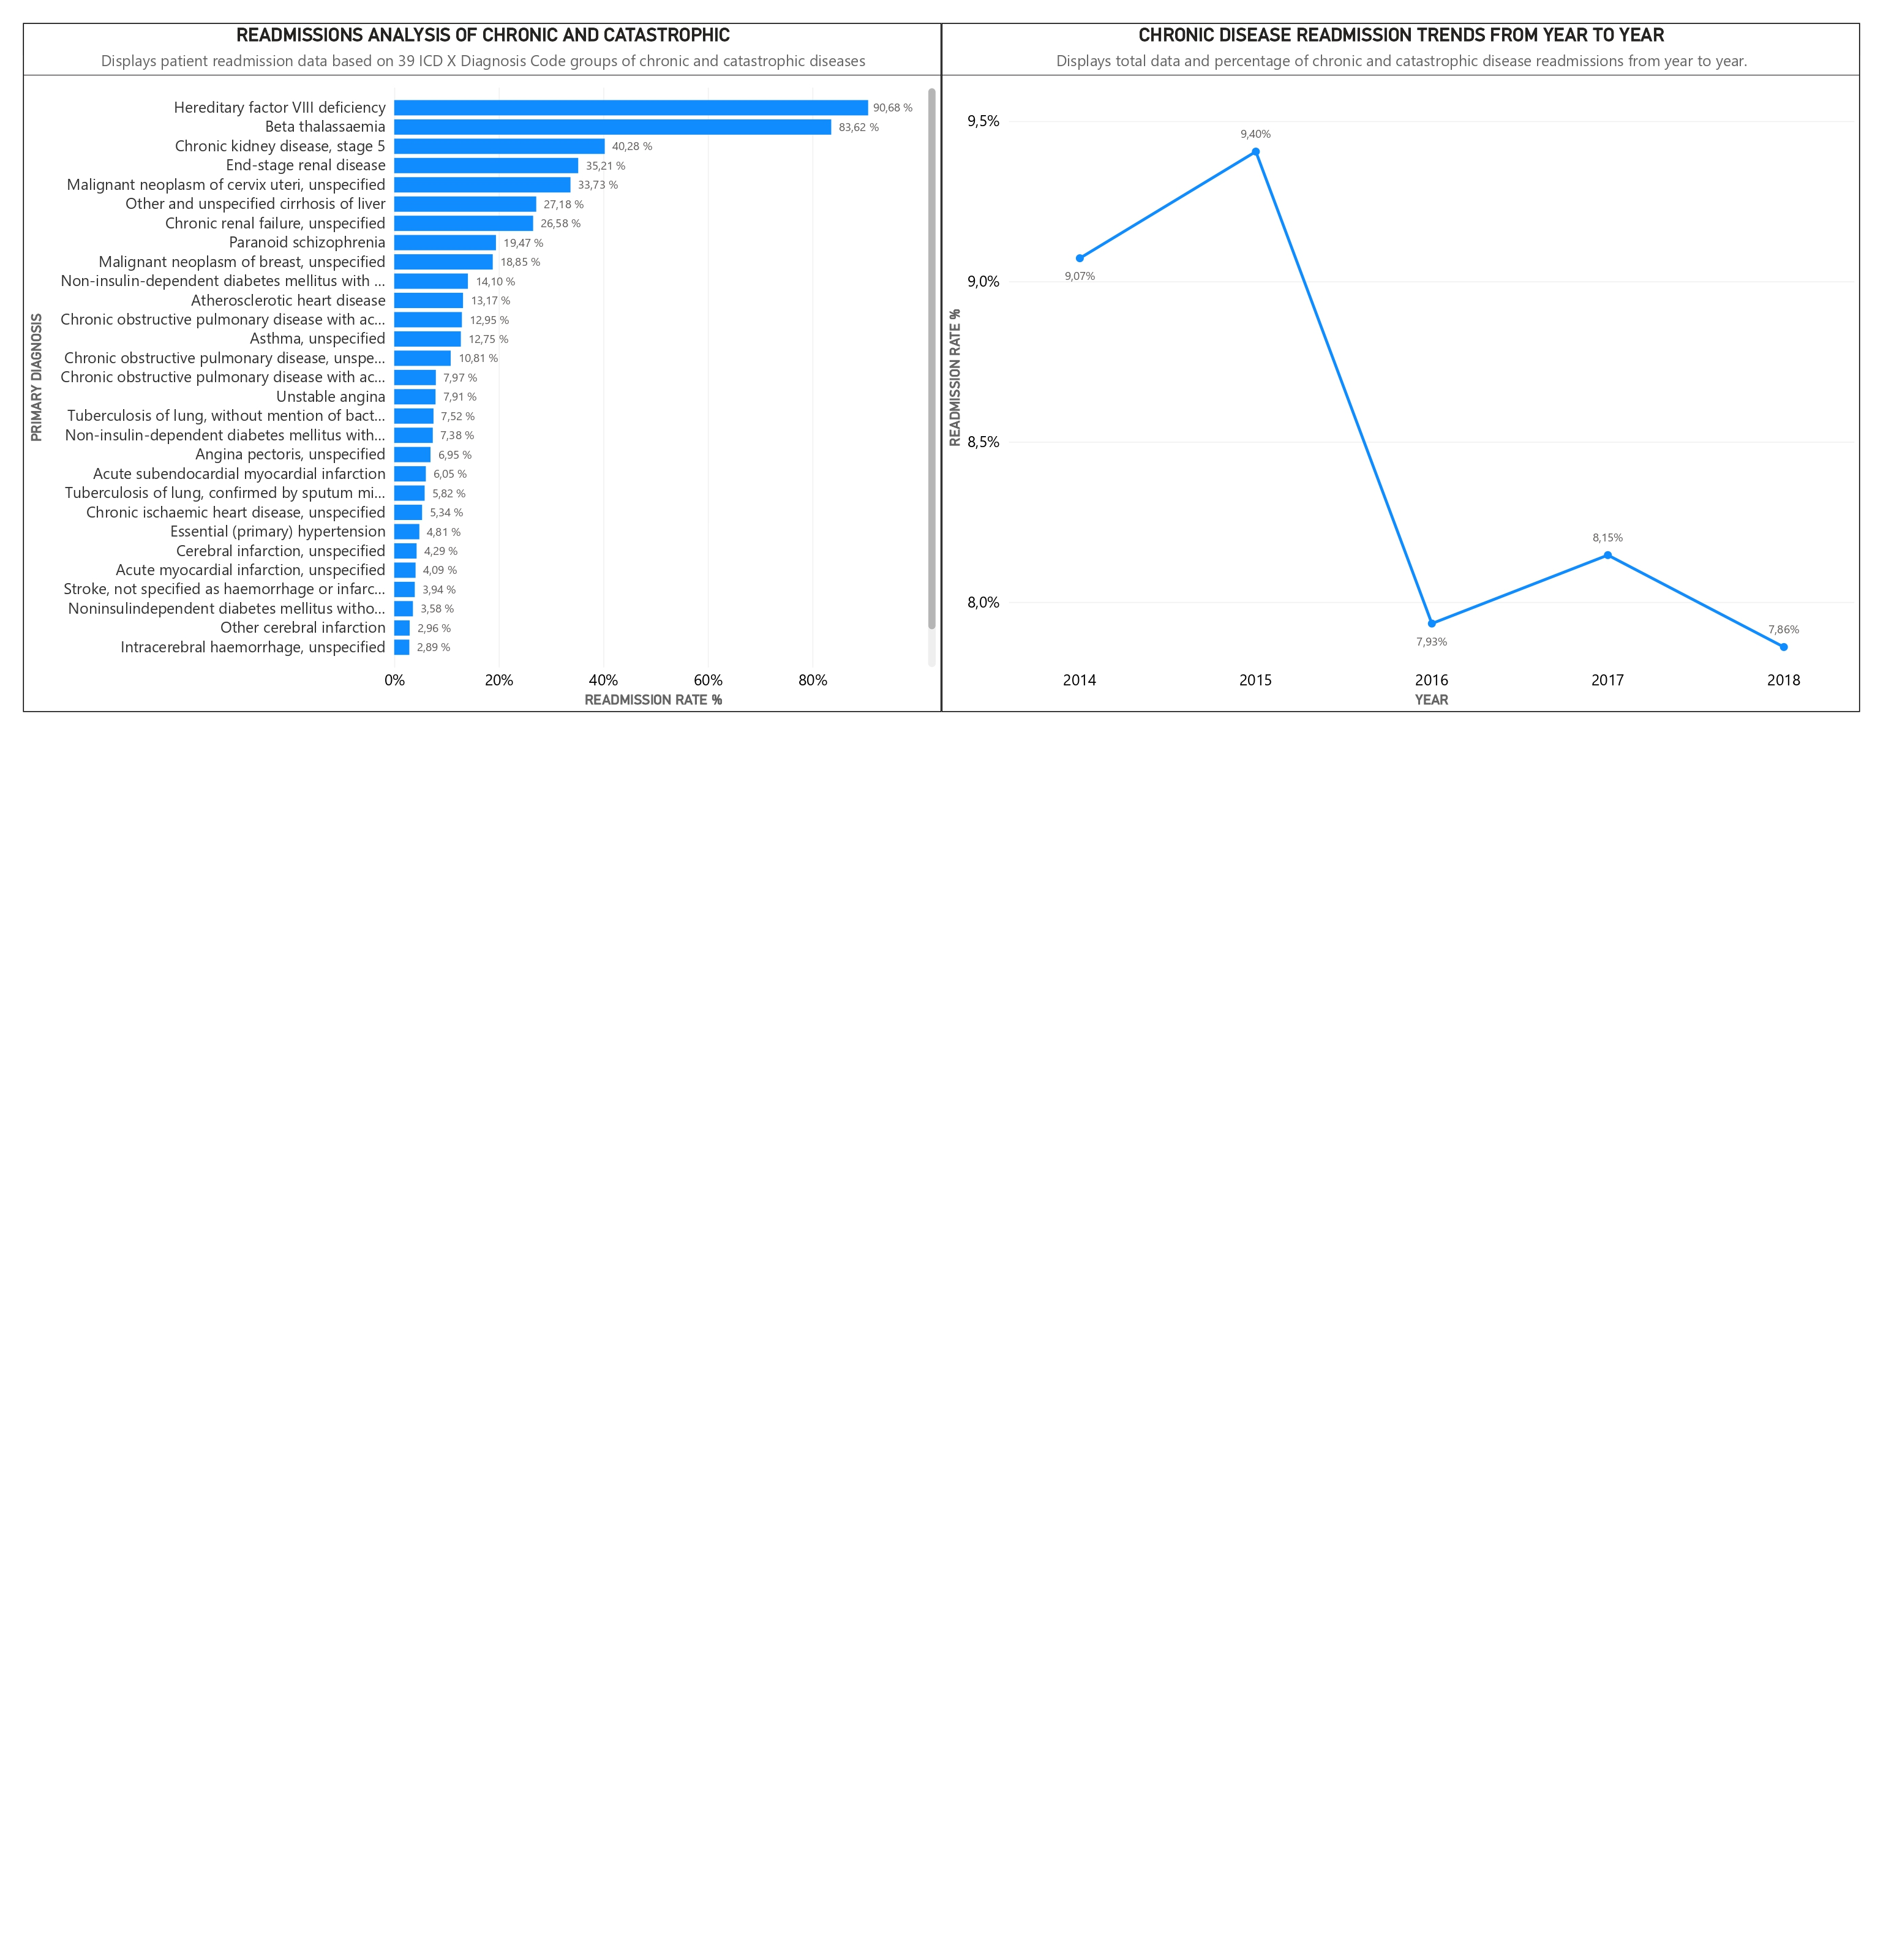

This screenshot's page, from the dashboard's own definition file:
{"tool":"powerbi","page":{"name":"Pilar 2: Evaluasi Finansial & Efisiensi (Financial Sustainability)","canvas":[1920,2000],"ordinal":2},"visuals":[{"type":"clusteredBarChart","title":"READMISSIONS ANALYSIS OF CHRONIC AND CATASTROPHIC","fields":{"Category":["Master_RITL_2014_2018.Diagnosis Primer"],"Y":["Master_RITL_2014_2018.Readmission Rate %"]},"box":[0,0,960,720],"z":0},{"type":"lineChart","title":"CHRONIC DISEASE READMISSION TRENDS FROM YEAR TO YEAR","fields":{"Category":["Master_RITL_2014_2018.Tahun"],"Y":["Master_RITL_2014_2018.Readmission Rate %"]},"box":[960,0,960,720],"z":1000}]}

Visuals, with their boxes in screenshot pixels (x1, y1, x2, y2), scaled from the page's 1920x2000 canvas onto the 1883x1960 screenshot:
"READMISSIONS ANALYSIS OF CHRONIC AND CATASTROPHIC" clusteredBarChart: 0/0/942/706
"CHRONIC DISEASE READMISSION TRENDS FROM YEAR TO YEAR" lineChart: 942/0/1882/706
